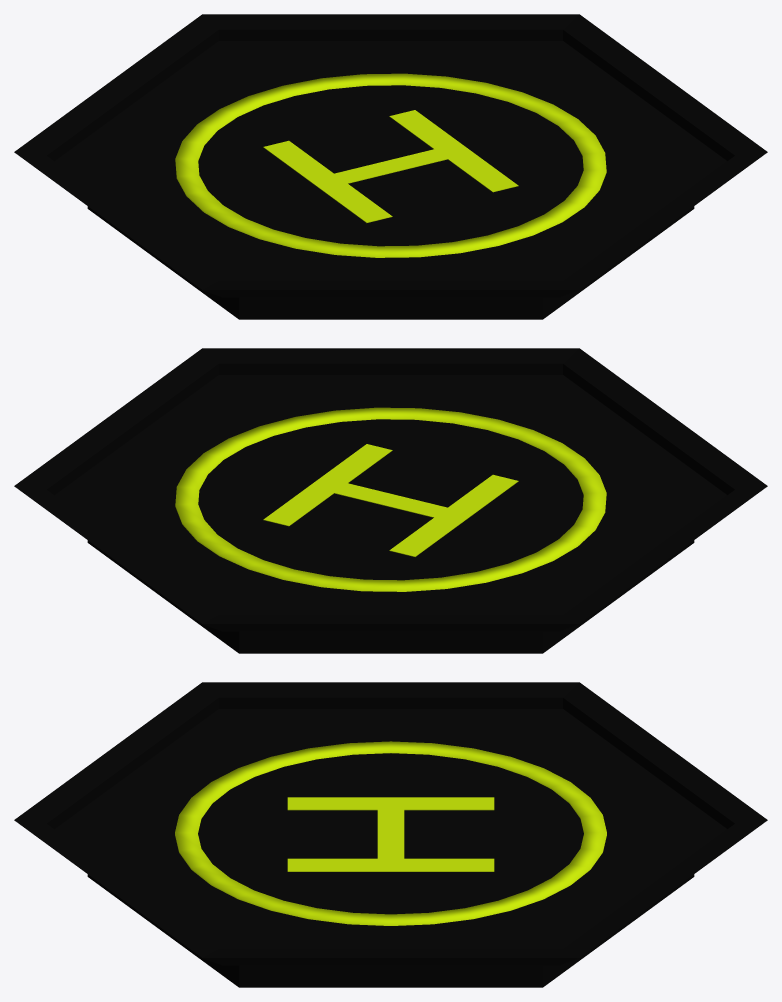
File: HeliPad.fbx
3 renders of one model, top to bottom at view 1: azimuth 30°, elevation 25°; view 2: azimuth 150°, elevation 25°; view 3: azimuth 270°, elevation 25°, orthographic.
Visible parts, largest first — view 1: H; view 2: H; view 3: H.
Boxes of the visible parts, x1=… form: H: x1=14, y1=14, x2=767, y2=319; H: x1=14, y1=348, x2=767, y2=653; H: x1=14, y1=682, x2=767, y2=987.
Size of the model in its own units: 215 by 20.59 by 249.
